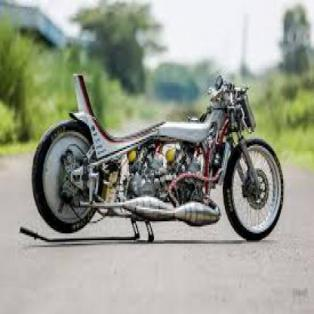Motocicleta: (18, 65, 290, 260)
